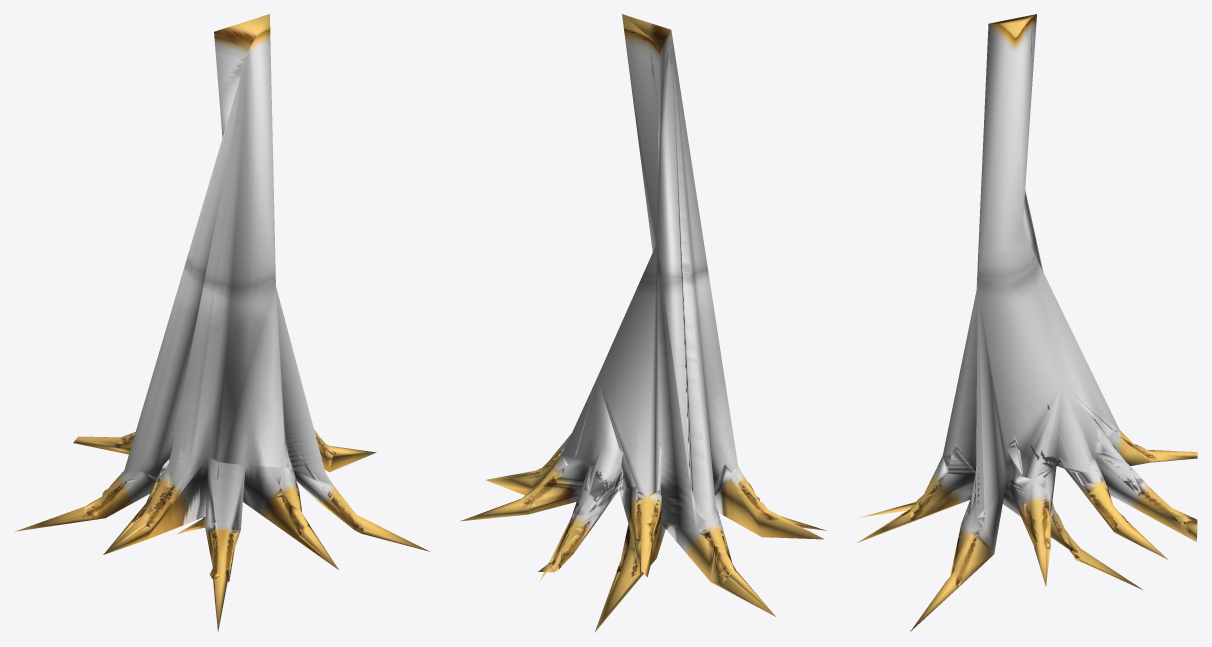
File: trau_tail.glb
The picture shows the model from 3 angles, left to right: view 1: azimuth 30°, elevation 25°; view 2: azimuth 150°, elevation 25°; view 3: azimuth 270°, elevation 25°; orthographic projection. The views are drawn at different scales.
Parts seen in each view (by area): view 1: trau_tail; view 2: trau_tail; view 3: trau_tail.
Boxes of the visible parts, x1,y1,x2,y2 form: trau_tail: [15, 14, 429, 631]; trau_tail: [460, 14, 827, 632]; trau_tail: [857, 14, 1197, 631].
Size of the model in its own units: 0.4161 by 0.6813 by 0.361.
1 material, 1 textured.
